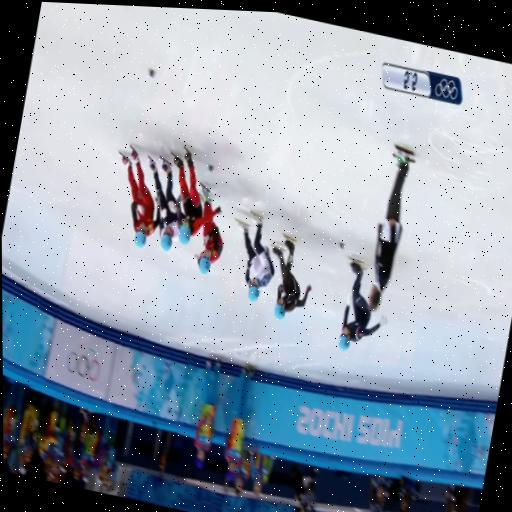Skater: (173, 151, 220, 244), (339, 260, 387, 350), (122, 147, 160, 247), (236, 213, 274, 301), (273, 237, 311, 318), (150, 157, 179, 249), (198, 183, 223, 273)
